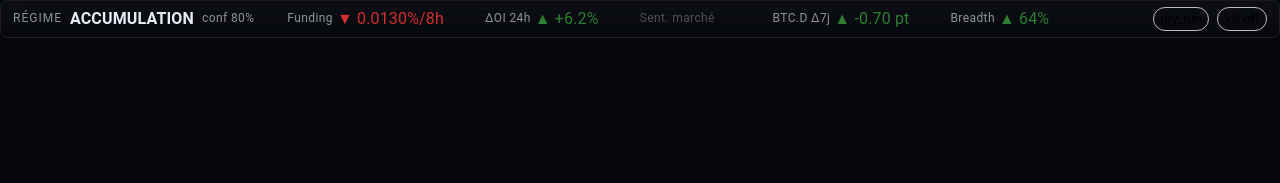
it: RegimeStrip › ouvre le popover de règle au clic sur un driver
Expected: the text "ACCUMULATION" is shown, left=70, top=7, right=194, bottom=31
Click the button with test id "driver-funding". click: [361, 19]
box: left=270, top=7, right=452, bottom=31
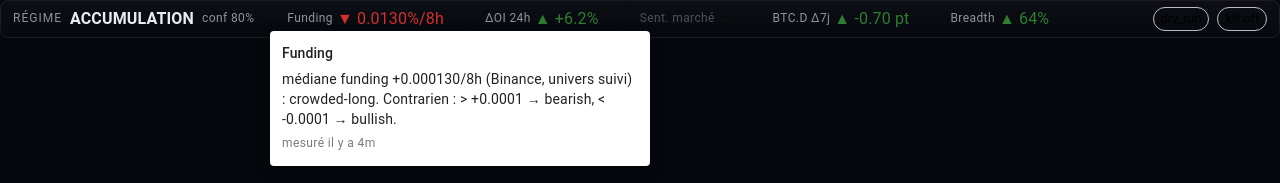
Expected: the text "Contrarien" is shown, left=282, top=71, right=632, bottom=127
Expected: the text "mesuré il y a 4m" is shown, left=282, top=136, right=376, bottom=150
